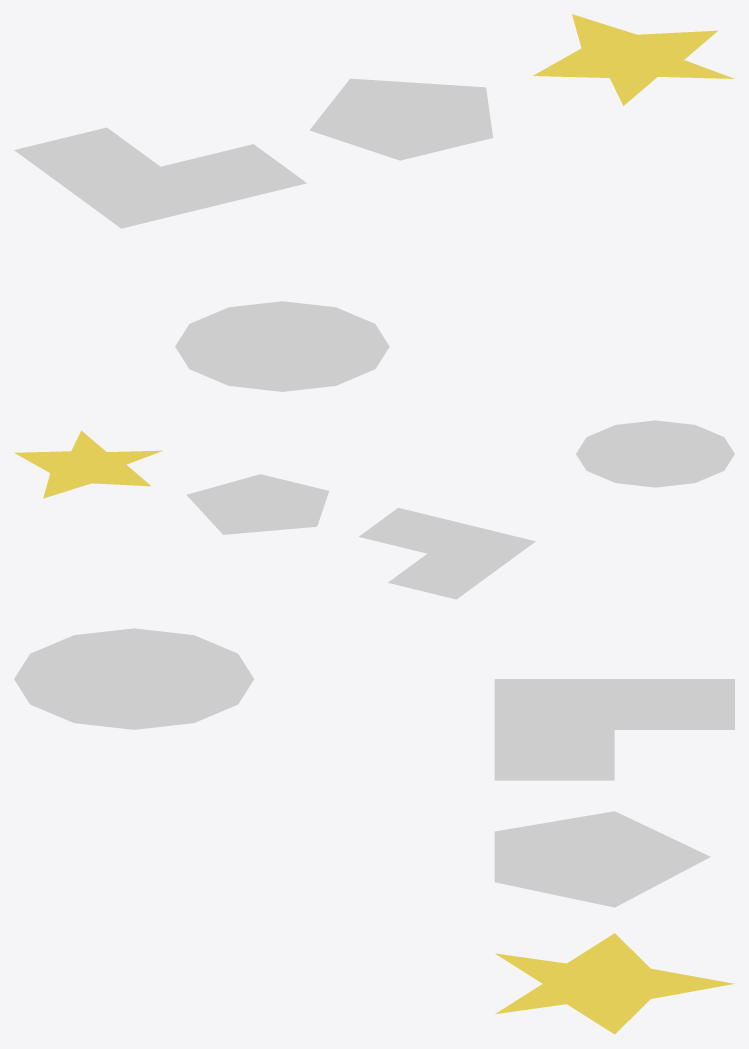
The model's file is ngon_panels.out_panels_rt.glb.
The picture shows the model from 3 angles, top to bottom: view 1: azimuth 30°, elevation 25°; view 2: azimuth 150°, elevation 25°; view 3: azimuth 270°, elevation 25°; orthographic projection. The views are drawn at different scales.
Parts seen in each view (by area): view 1: Panels, Circle; view 2: Panels, Circle; view 3: Panels, Circle.
Boxes of the visible parts, x1=… form: Panels: x1=14, y1=14, x2=734, y2=228; Circle: x1=175, y1=301, x2=389, y2=391; Panels: x1=14, y1=430, x2=535, y2=599; Circle: x1=576, y1=420, x2=734, y2=487; Panels: x1=494, y1=679, x2=734, y2=1034; Circle: x1=14, y1=628, x2=253, y2=729.
Size of the model in its own units: 8 by 0 by 6.
